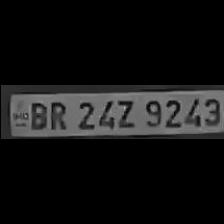2: (71, 98, 95, 130), (162, 96, 182, 128)
3: (202, 95, 220, 127)
4: (183, 95, 201, 127), (96, 97, 114, 128)
9: (140, 96, 162, 128)
B: (26, 100, 46, 128)
R: (46, 98, 68, 130)
Z: (114, 97, 136, 129)
